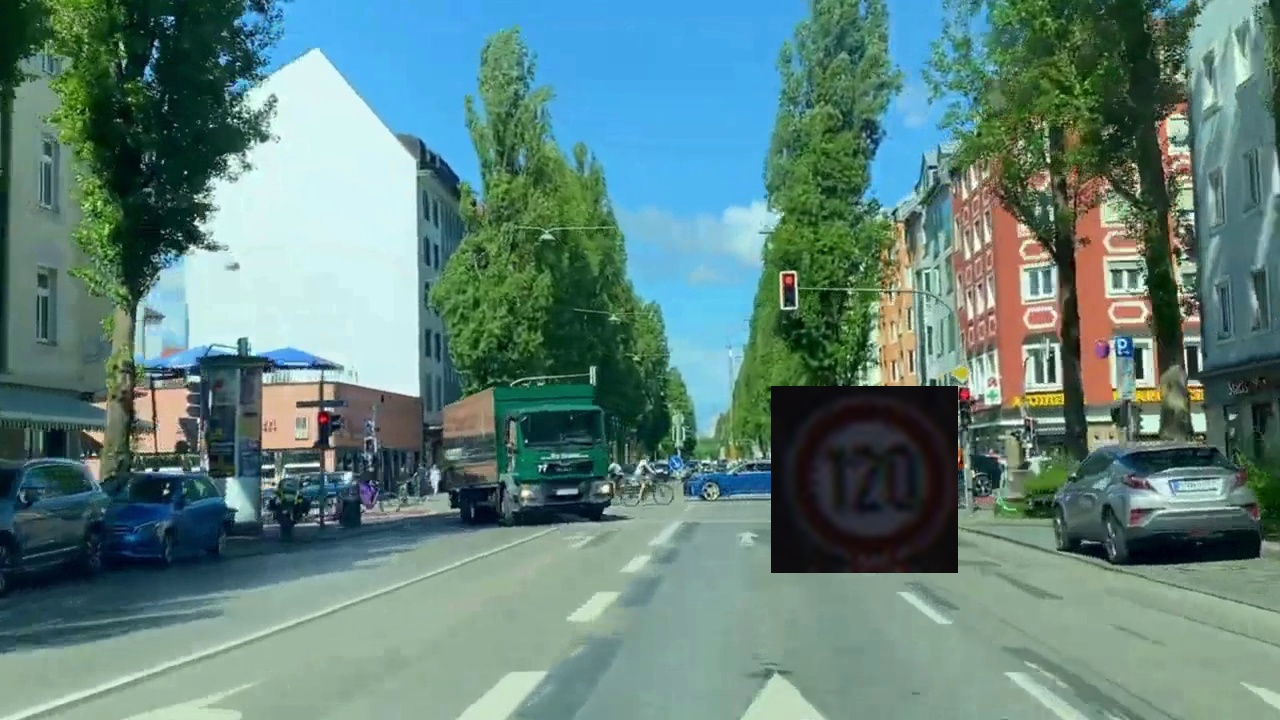Speed 120: (771, 386, 958, 573)
